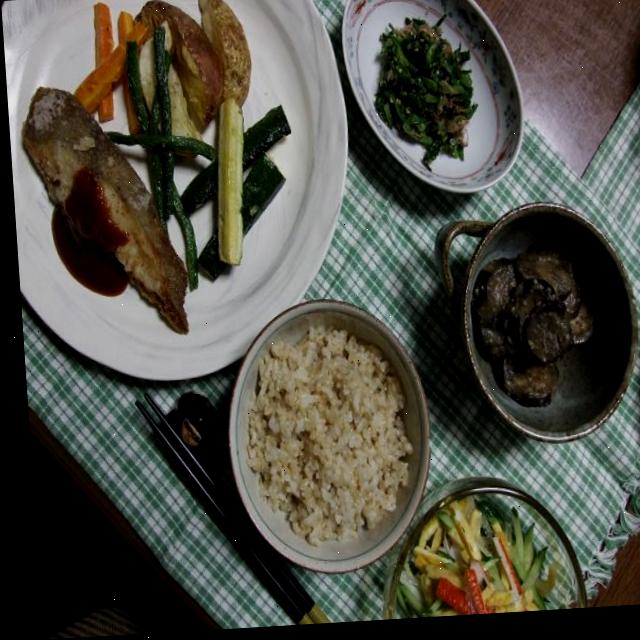鸡蛋料理: (451, 209, 640, 453)
